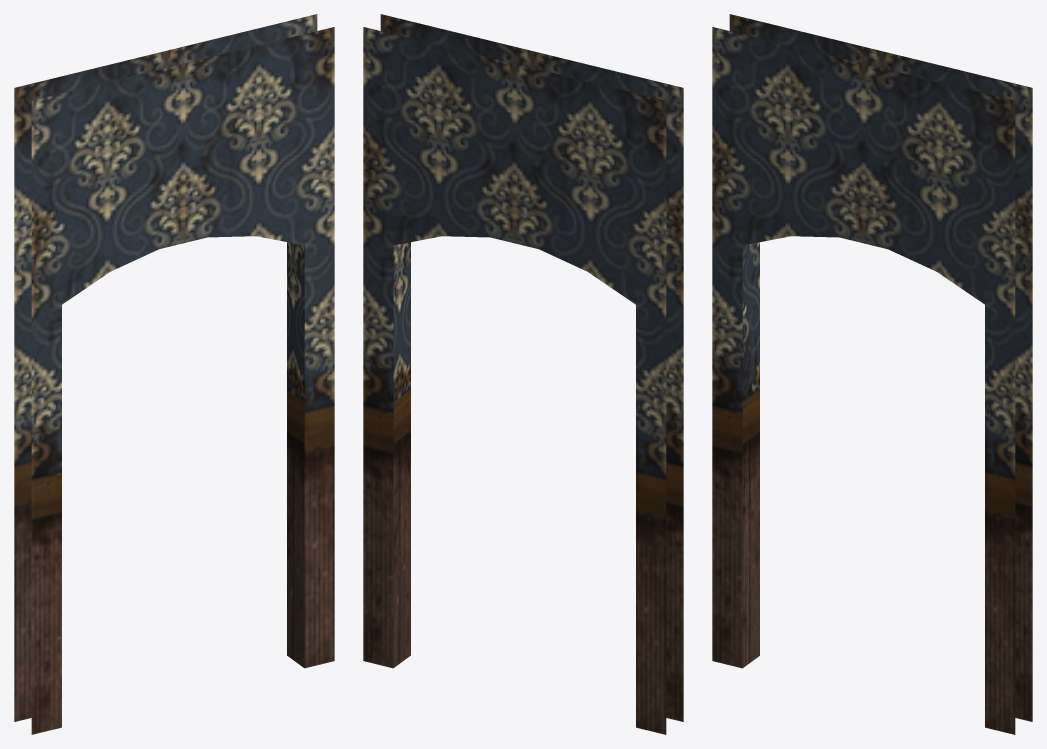
Rendered from wall_blue_archway_2.obj.
3 renders of one model, left to right at view 1: azimuth 30°, elevation 25°; view 2: azimuth 150°, elevation 25°; view 3: azimuth 330°, elevation 25°, orthographic.
Parts seen in each view (by area): view 1: Wall_Archway_Cap; view 2: Wall_Archway_Cap; view 3: Wall_Archway_Cap.
Boxes of the visible parts, x1,y1,x2,y2 form: Wall_Archway_Cap: (14, 14, 334, 734); Wall_Archway_Cap: (363, 14, 683, 734); Wall_Archway_Cap: (712, 14, 1032, 734).
Bounding box in the file's own units: 1.5 × 3 × 0.15.
Materials: 2 (2 with a texture image).
